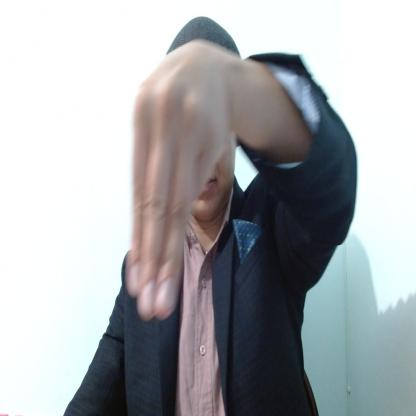M: (127, 43, 236, 324)
